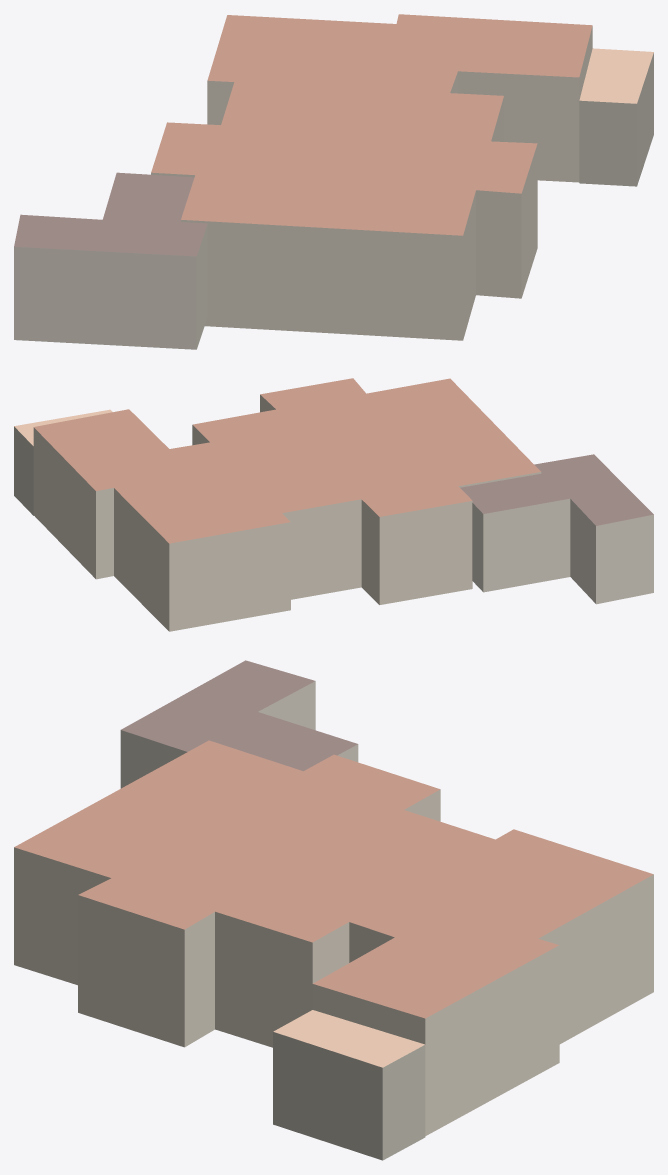
3 renders of one model, top to bottom at view 1: azimuth 30°, elevation 25°; view 2: azimuth 150°, elevation 25°; view 3: azimuth 270°, elevation 25°, orthographic. The views are drawn at different scales.
Visible parts, largest first — view 1: tuile; view 2: tuile; view 3: tuile.
Part boxes in pixels (<box>): tuile: <box>14,14,653,349</box>; tuile: <box>14,378,653,631</box>; tuile: <box>14,660,653,1160</box>.
Bounding box in the file's own units: 29.8 × 4.3 × 21.
